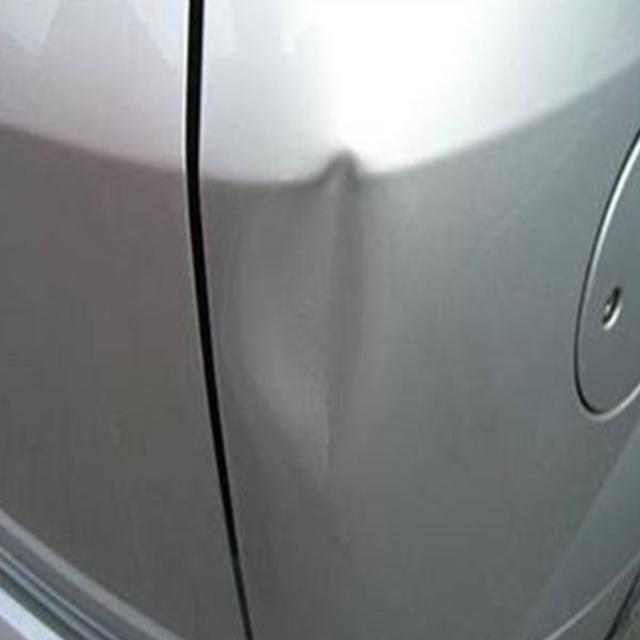dents: (226, 129, 419, 508)
